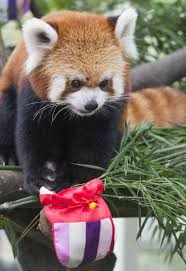redPanda: (0, 10, 146, 189)
